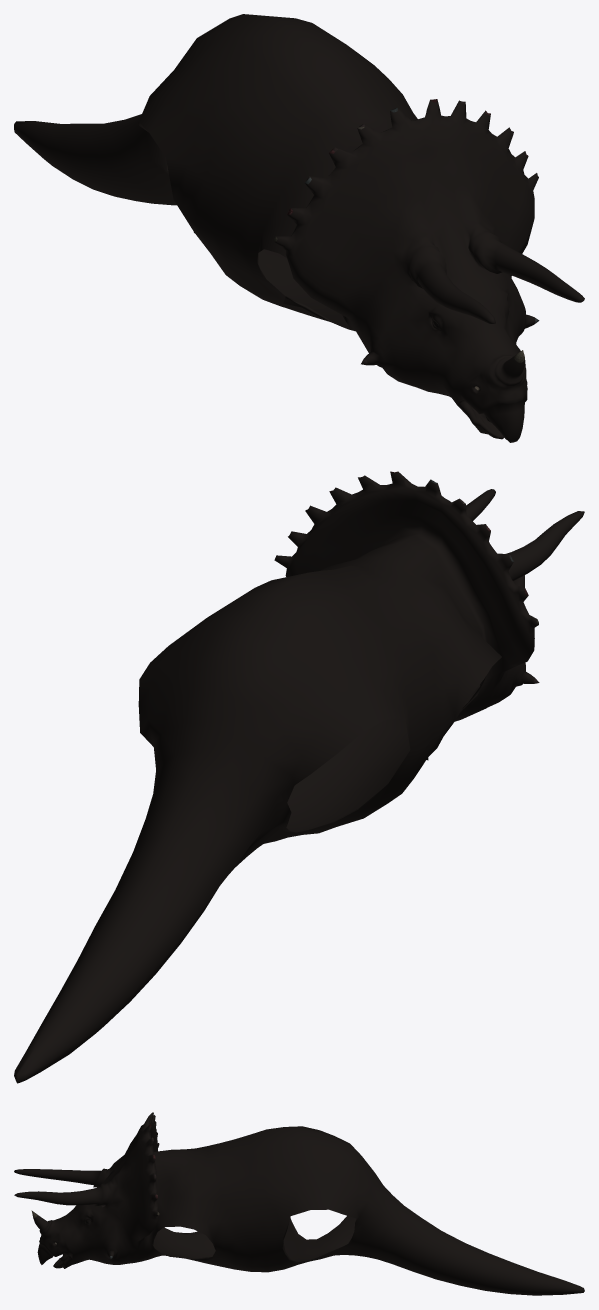
Rendered from CuerpoT.obj.
3 renders of one model, top to bottom at view 1: azimuth 30°, elevation 25°; view 2: azimuth 150°, elevation 25°; view 3: azimuth 270°, elevation 25°, orthographic. The views are drawn at different scales.
Parts seen in each view (by area): view 1: Triceratop; view 2: Triceratop; view 3: Triceratop.
Part boxes in pixels (x1,y1,x2,y2): Triceratop: [14, 14, 584, 442]; Triceratop: [14, 471, 584, 1083]; Triceratop: [14, 1112, 584, 1295].
Size of the model in its own units: 38.89 by 45.29 by 133.
1 material, 1 textured.
